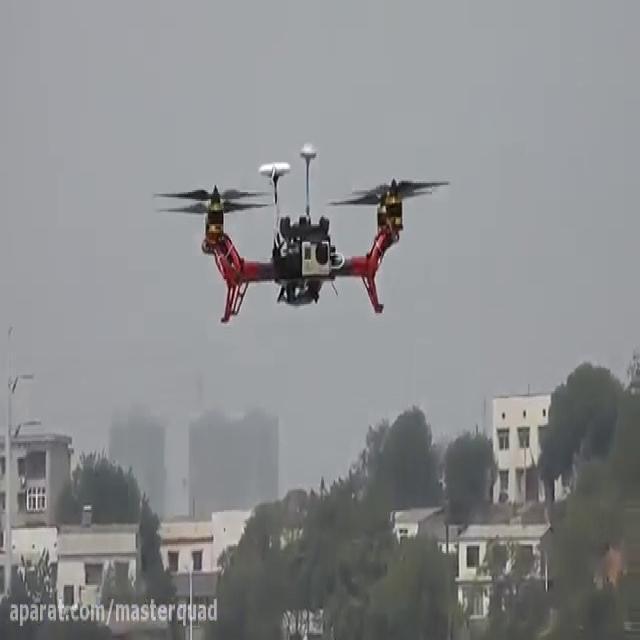drone: (148, 142, 452, 327)
